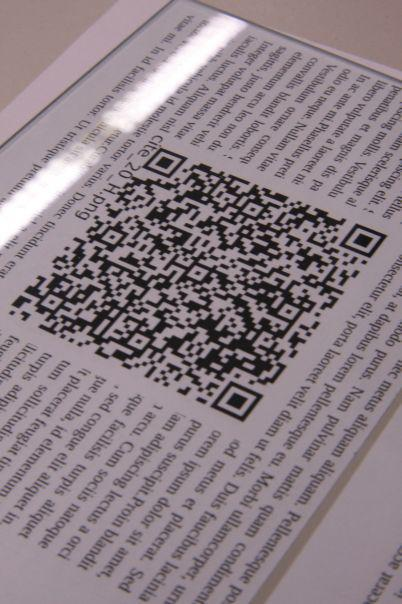Finder pattern: (210, 379, 266, 423), (337, 223, 391, 262), (141, 147, 189, 181)
